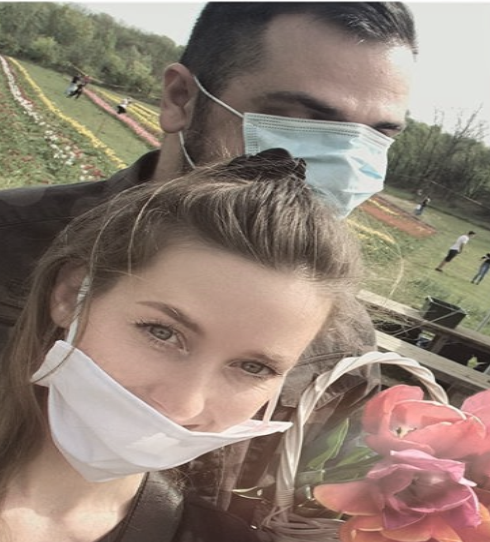mask_weared_incorrect: (37, 190, 335, 482), (159, 2, 426, 224)
